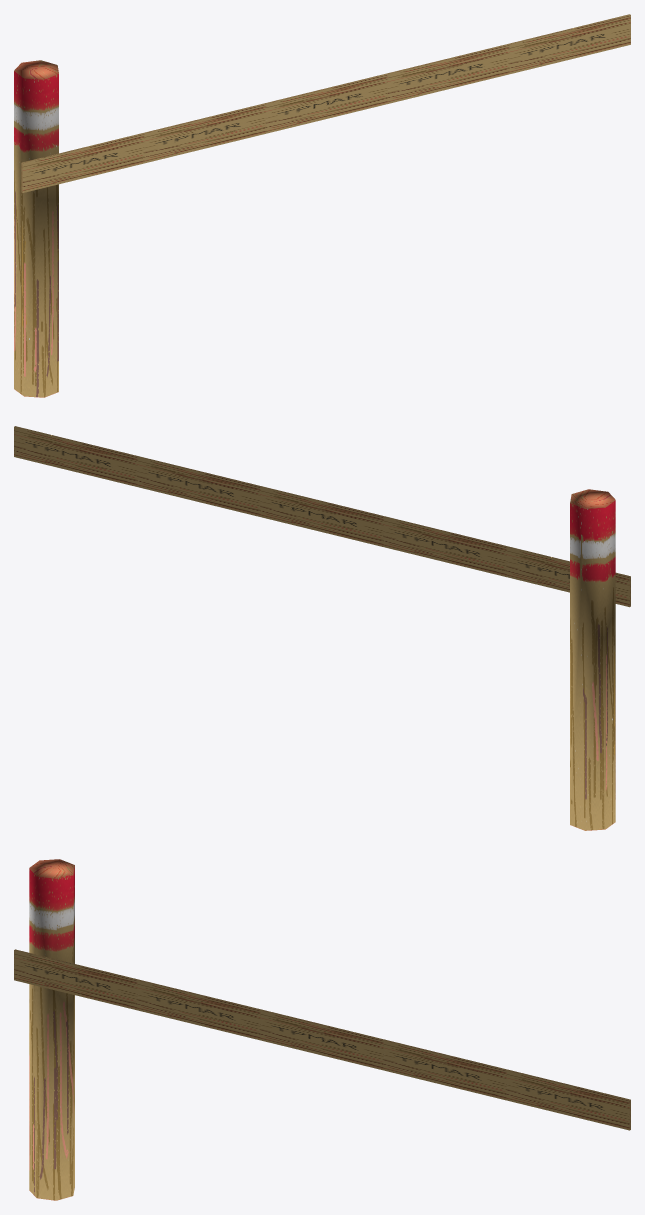
File: barriere03.obj
The picture shows the model from 3 angles, top to bottom: view 1: azimuth 30°, elevation 25°; view 2: azimuth 150°, elevation 25°; view 3: azimuth 330°, elevation 25°; orthographic projection.
Visible parts, largest first — view 1: barre, poteau; view 2: barre, poteau; view 3: barre, poteau.
Boxes of the visible parts, bbox=[...] form: barre: bbox=[21, 14, 630, 192]; poteau: bbox=[14, 60, 58, 397]; barre: bbox=[14, 426, 630, 607]; poteau: bbox=[570, 489, 615, 830]; barre: bbox=[14, 949, 630, 1130]; poteau: bbox=[29, 859, 74, 1200].
Size of the model in its own units: 150 by 75 by 9.91.
2 materials, 2 textured.
